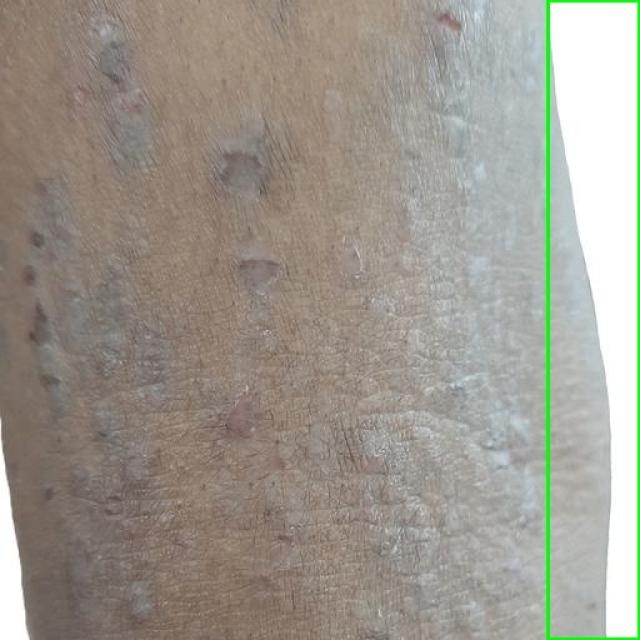Atopic Dermatitis: (548, 0, 639, 639)
